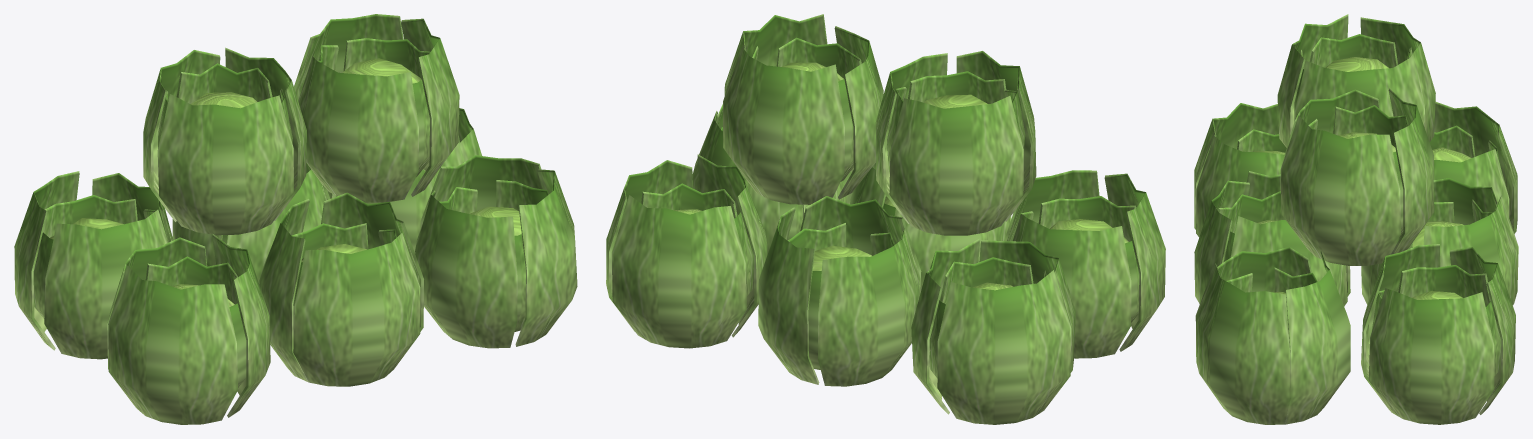
Rendered from sk_produce_pile_lettuce.glb.
The picture shows the model from 3 angles, left to right: view 1: azimuth 30°, elevation 25°; view 2: azimuth 150°, elevation 25°; view 3: azimuth 270°, elevation 25°; orthographic projection. The views are drawn at different scales.
Visible parts, largest first — view 1: sk_produce_pile_lettuce; view 2: sk_produce_pile_lettuce; view 3: sk_produce_pile_lettuce.
Boxes of the visible parts, x1,y1,x2,y2 form: sk_produce_pile_lettuce: (14, 14, 577, 424); sk_produce_pile_lettuce: (606, 14, 1165, 424); sk_produce_pile_lettuce: (1194, 14, 1518, 424).
Bounding box in the file's own units: 0.4356 × 0.2522 × 0.2858.
Materials: 1 (1 with a texture image).
